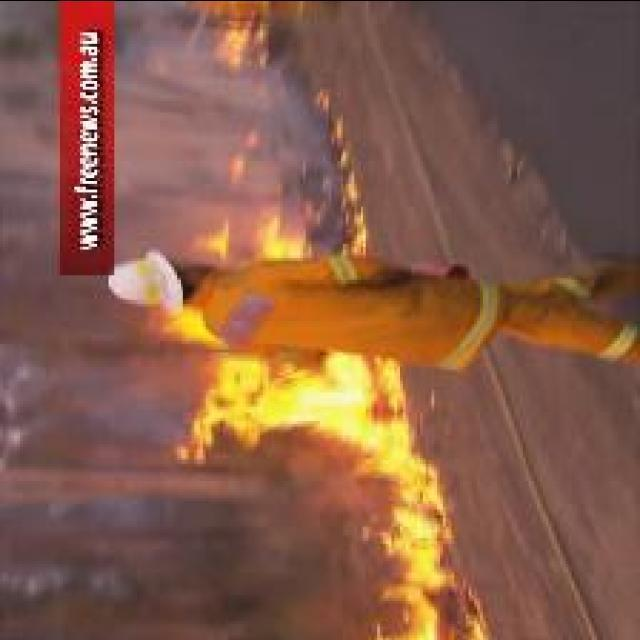Fire: (175, 349, 490, 640), (253, 214, 367, 254), (143, 307, 220, 344), (190, 222, 230, 258)
